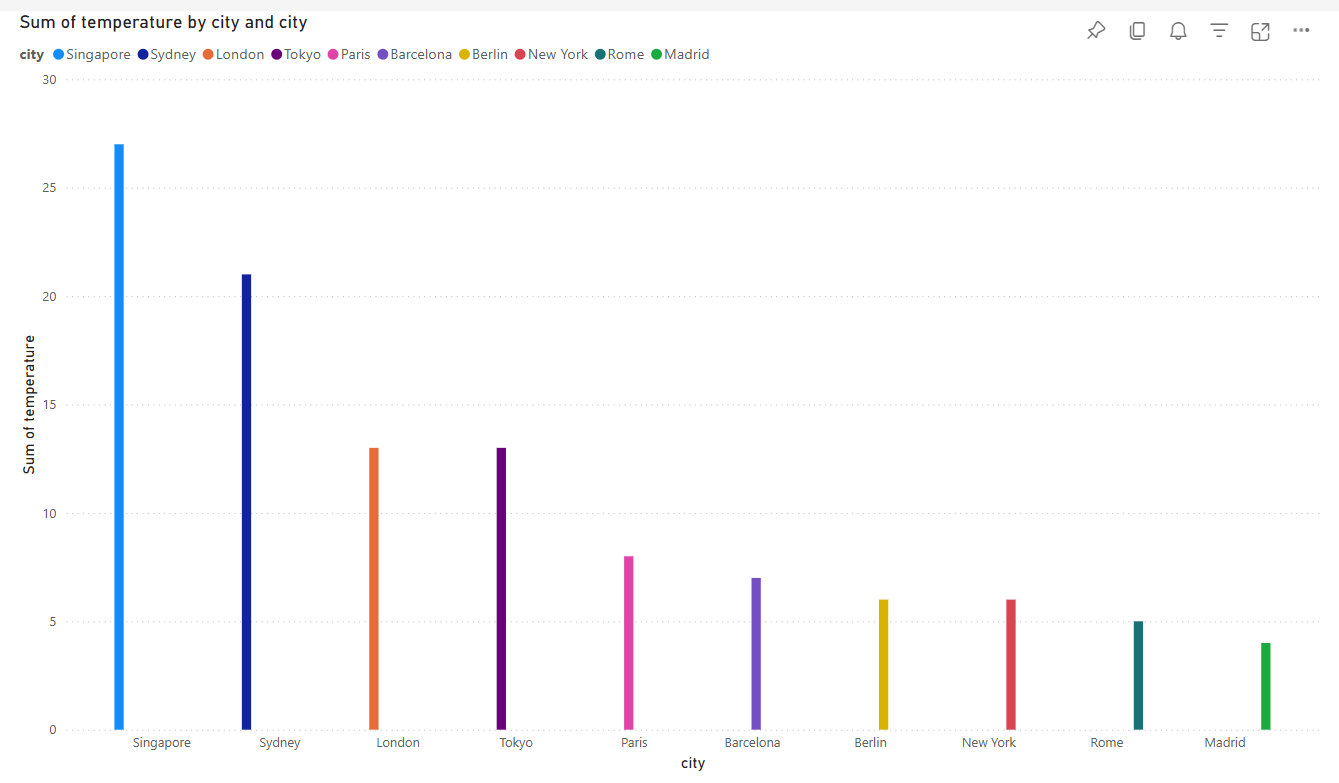

The page's visual inventory and layout, read from the dashboard file:
{"tool":"powerbi","page":{"name":"Page 1","canvas":[1280,720],"ordinal":0},"visuals":[{"type":"clusteredColumnChart","fields":{"Category":["weather.city"],"Y":["Sum(weather.temperature)"],"Series":["weather.city"]},"box":[10,0,1200,701.1],"z":0}]}

Visuals, with their boxes in screenshot pixels (x1, y1, x2, y2):
clusteredColumnChart - weather.city x Sum(weather.temperature): x1=115 y1=45 x2=1309 y2=743
